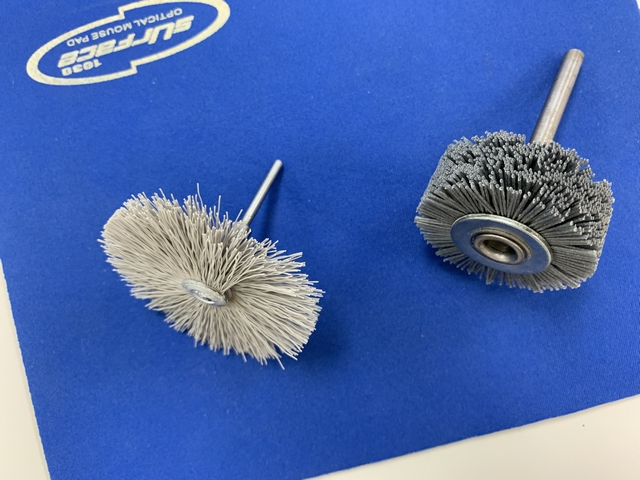TOOL: (92, 157, 336, 373)
Wheel Brush: (406, 11, 616, 318)
